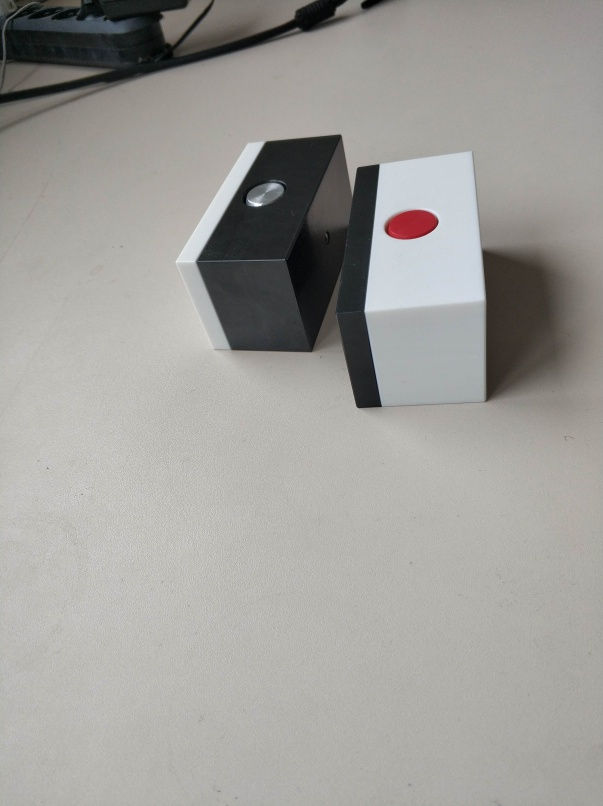black+white+red: (332, 149, 494, 413)
white+black+silver: (172, 133, 351, 354)
